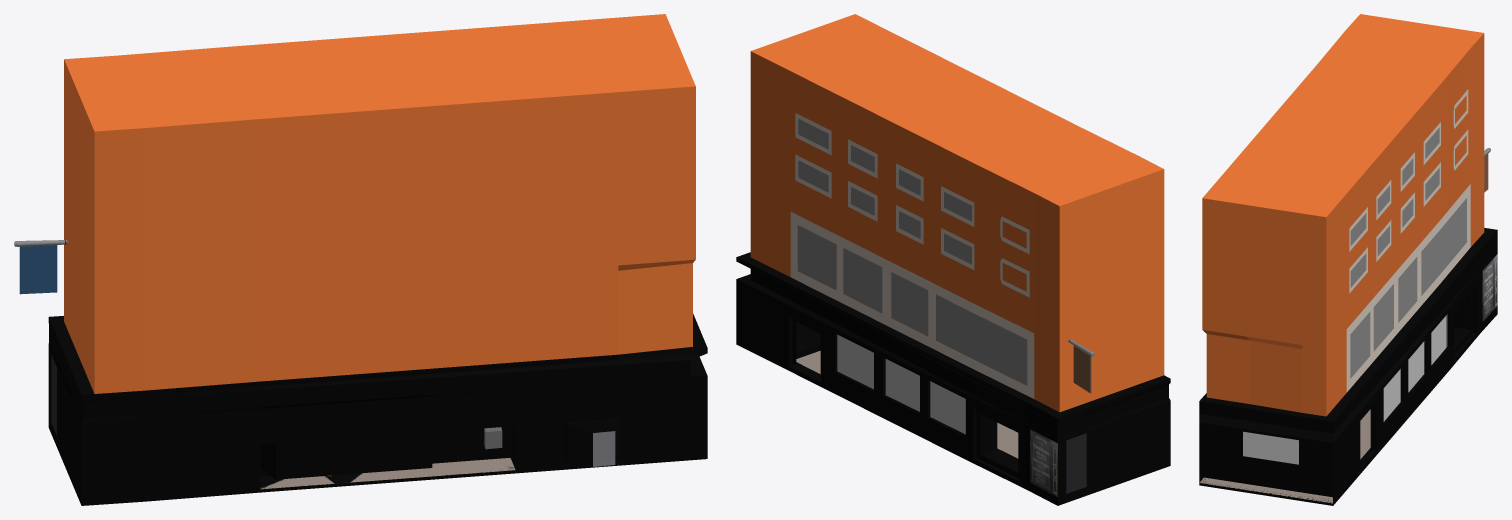
File: Dove and Rainbow.fbx
3 renders of one model, left to right at view 1: azimuth 30°, elevation 25°; view 2: azimuth 150°, elevation 25°; view 3: azimuth 270°, elevation 25°, orthographic. The views are drawn at different scales.
Parts seen in each view (by area): view 1: Dove & Rainbow; view 2: Dove & Rainbow; view 3: Dove & Rainbow.
Part boxes in pixels (x1,y1,x2,y2): Dove & Rainbow: (14,14,707,505); Dove & Rainbow: (736,14,1170,505); Dove & Rainbow: (1199,14,1497,505).
Bounding box in the file's own units: 2473 × 1540 × 1470.
